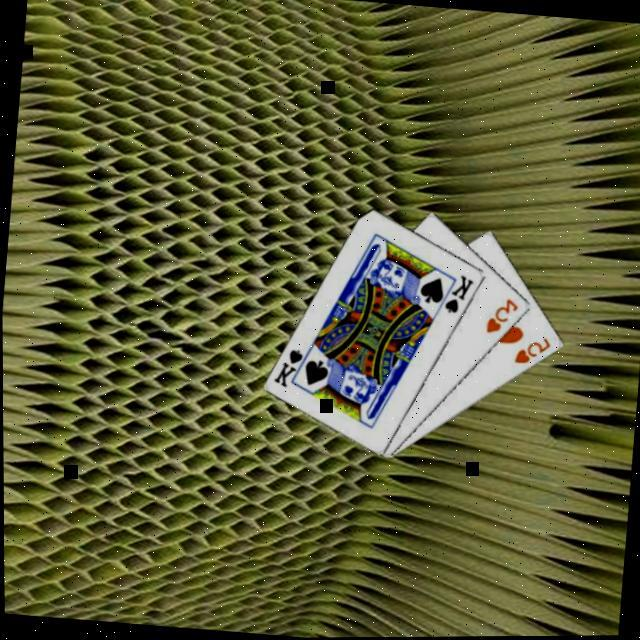3H: (483, 295, 523, 340)
5H: (511, 334, 555, 371)
KS: (271, 345, 314, 393), (442, 272, 478, 319)
